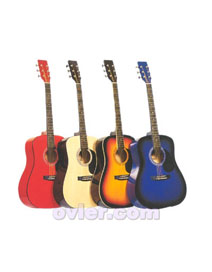guitar: (125, 61, 187, 209), (89, 59, 140, 209), (52, 61, 98, 209), (20, 60, 64, 209)
